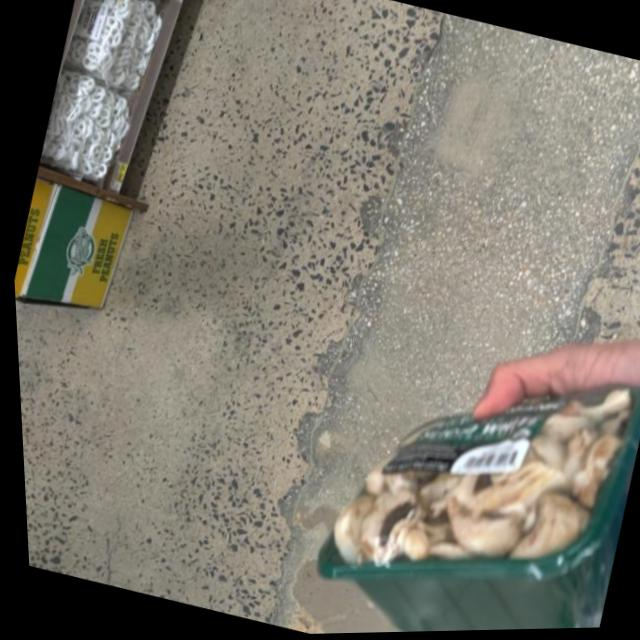Mushrooms: (274, 294, 640, 635)
